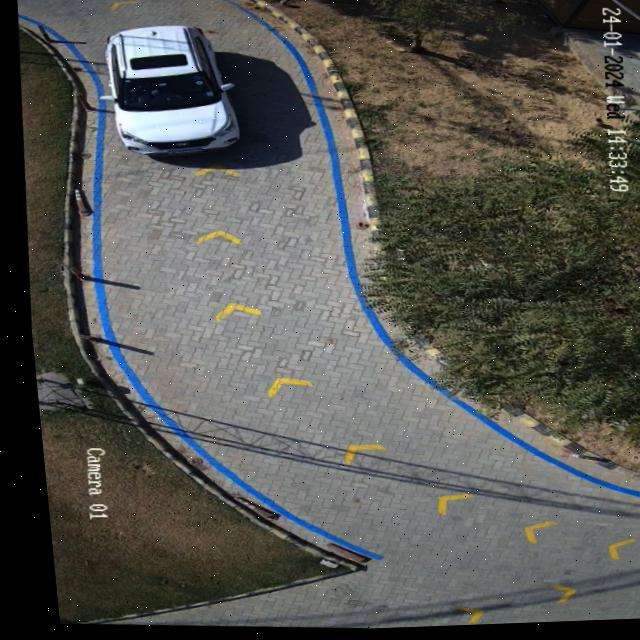car: (97, 27, 236, 157)
